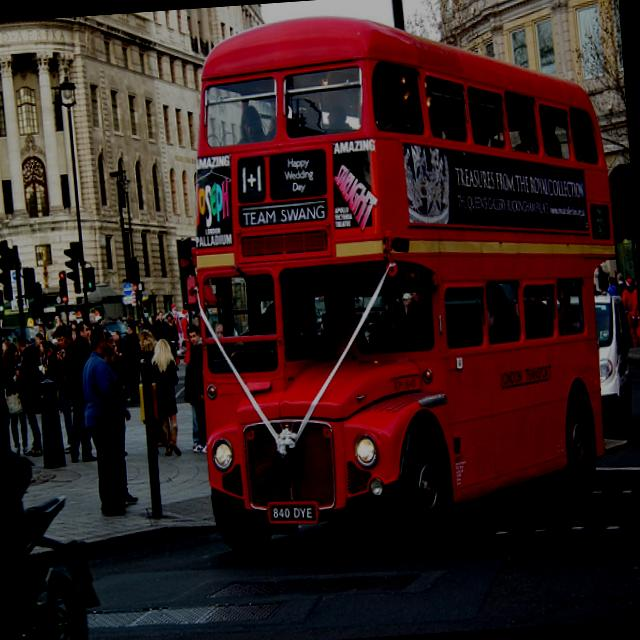Vehicle: (175, 0, 640, 570), (12, 494, 105, 640), (595, 291, 638, 438), (0, 306, 31, 329)
